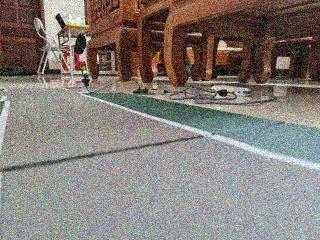green: (76, 54, 92, 79)
